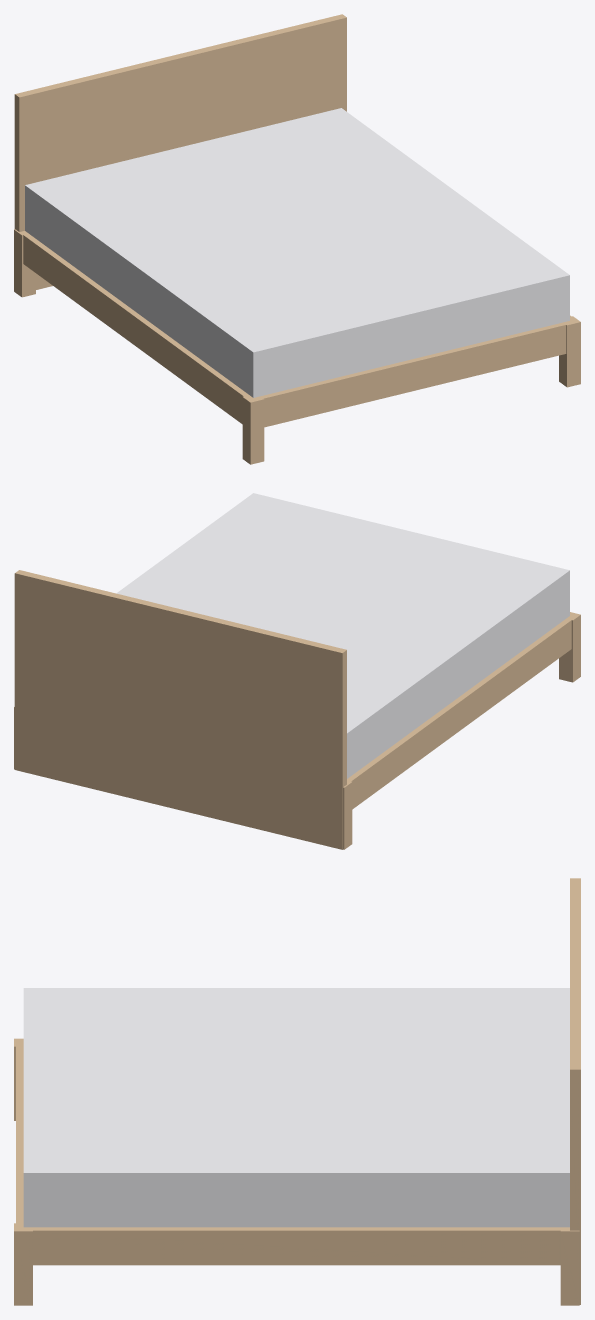
File: comp_double_bed.glb
3 views of the same model, one above another, from view 1: azimuth 30°, elevation 25°; view 2: azimuth 150°, elevation 25°; view 3: azimuth 270°, elevation 25° (orthographic). The views are drawn at different scales.
Parts seen in each view (by area): view 1: mattress, headboard, rail_foot, rail_side-1, leg-1b, leg1b, leg-1a; view 2: headboard, mattress, rail_side-1, leg-1b, leg-1a; view 3: mattress, rail_side1, headboard, leg1a, rail_foot, leg1b.
Part boxes in pixels (left/top/right/bottom): mattress: left=25, top=108, right=569, bottom=397; headboard: left=14, top=14, right=346, bottom=289; rail_foot: left=250, top=322, right=566, bottom=427; rail_side-1: left=19, top=231, right=252, bottom=424; leg-1b: left=242, top=395, right=264, bottom=464; leg1b: left=559, top=316, right=580, bottom=387; leg-1a: left=14, top=229, right=35, bottom=297; headboard: left=14, top=570, right=346, bottom=849; mattress: left=116, top=493, right=569, bottom=778; rail_side-1: left=347, top=616, right=575, bottom=809; leg-1b: left=559, top=612, right=580, bottom=682; leg-1a: left=343, top=780, right=352, bottom=849; mattress: left=23, top=988, right=569, bottom=1227; rail_side1: left=23, top=1227, right=569, bottom=1265; headboard: left=570, top=878, right=580, bottom=1304; leg1a: left=560, top=1230, right=579, bottom=1305; rail_foot: left=16, top=1040, right=23, bottom=1230; leg1b: left=14, top=1223, right=32, bottom=1305.
Size of the model in its own units: 1.67 by 0.95 by 2.07.
